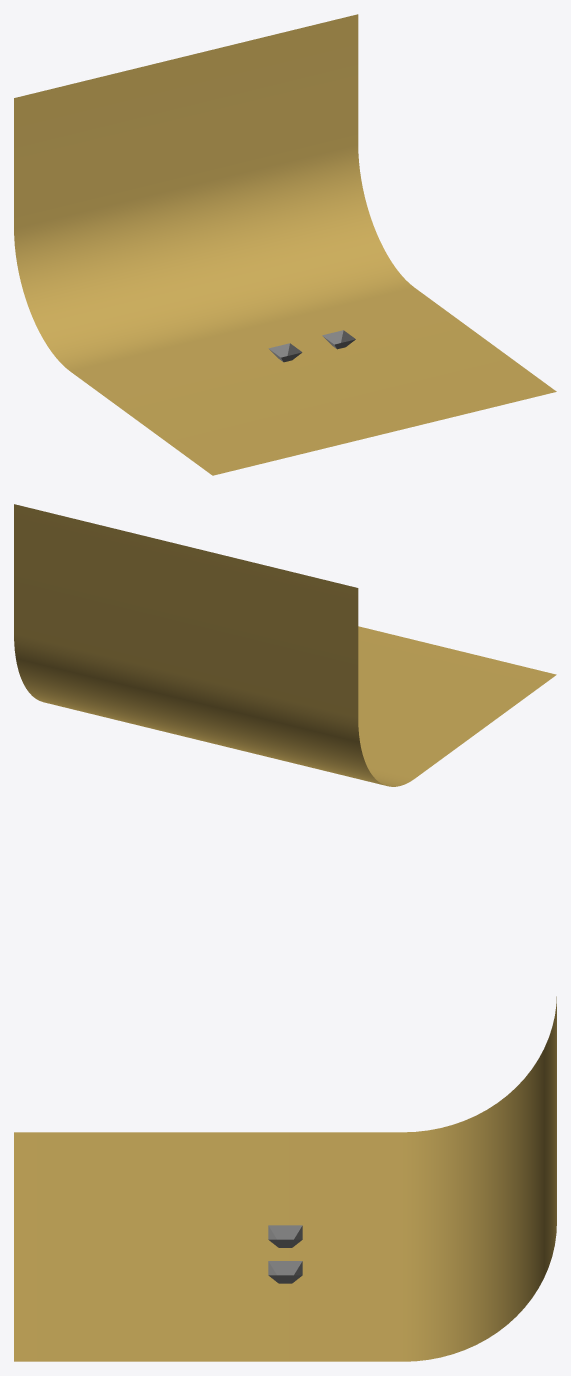
The model's file is sheet_metal_2.fbx.
The picture shows the model from 3 angles, top to bottom: view 1: azimuth 30°, elevation 25°; view 2: azimuth 150°, elevation 25°; view 3: azimuth 270°, elevation 25°; orthographic projection. The views are drawn at different scales.
Visible parts, largest first — view 1: Plane; view 2: Plane; view 3: Plane, base.002.
Boxes of the visible parts, box(x1,y1,x2,y2) form: Plane: box(14, 14, 556, 475); Plane: box(14, 504, 556, 786); Plane: box(14, 996, 556, 1361); base.002: box(268, 1261, 302, 1283).
Bounding box in the file's own units: 314 × 202 × 314.
